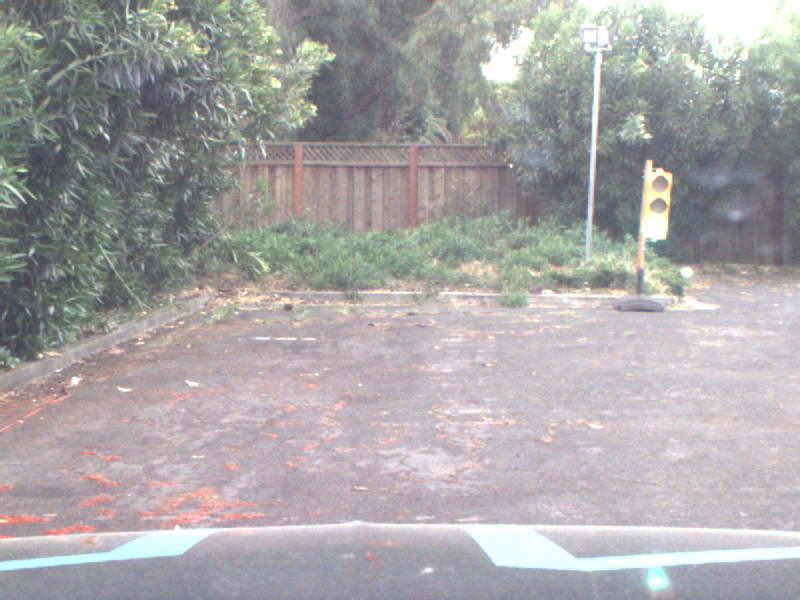Green: (645, 171, 671, 244)
